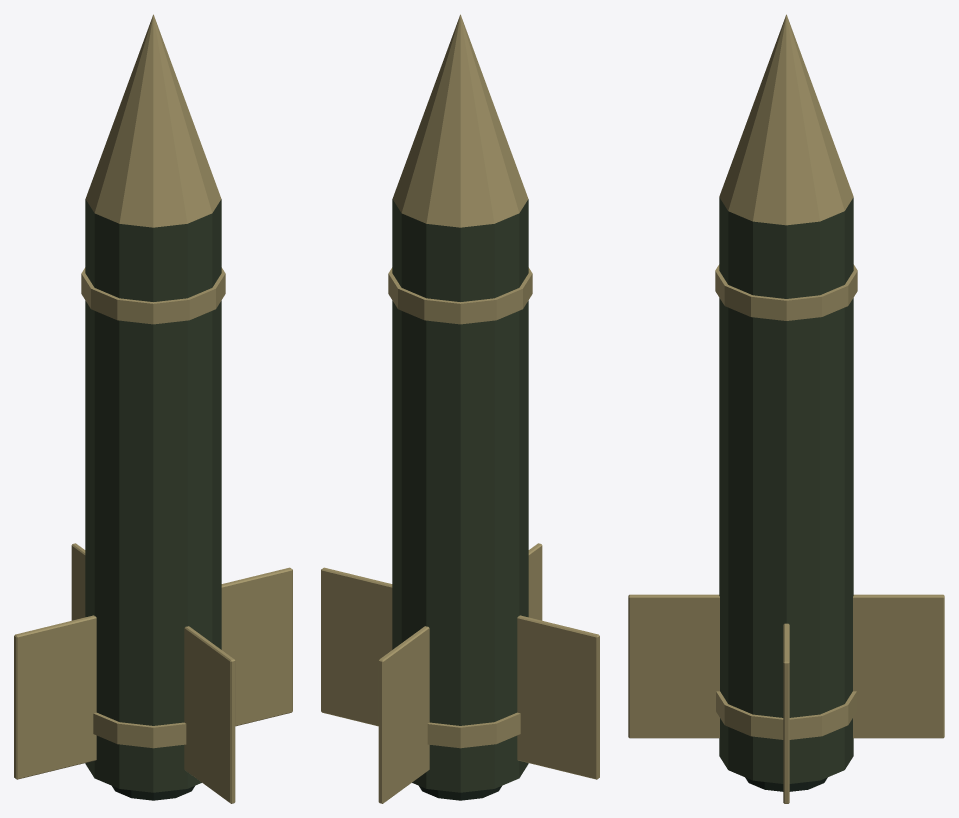
File: projectile_rocket.obj
3 views of the same model, side by side, from view 1: azimuth 30°, elevation 25°; view 2: azimuth 150°, elevation 25°; view 3: azimuth 270°, elevation 25° (orthographic).
Parts seen in each view (by area): view 1: projectile_rocket; view 2: projectile_rocket; view 3: projectile_rocket.
Boxes of the visible parts, x1,y1,x2,y2 form: projectile_rocket: (14,14,292,803); projectile_rocket: (321,14,599,803); projectile_rocket: (628,14,944,803).
Size of the model in its own units: 0.564 by 1.5 by 0.564.
Materials: 1 (1 with a texture image).
